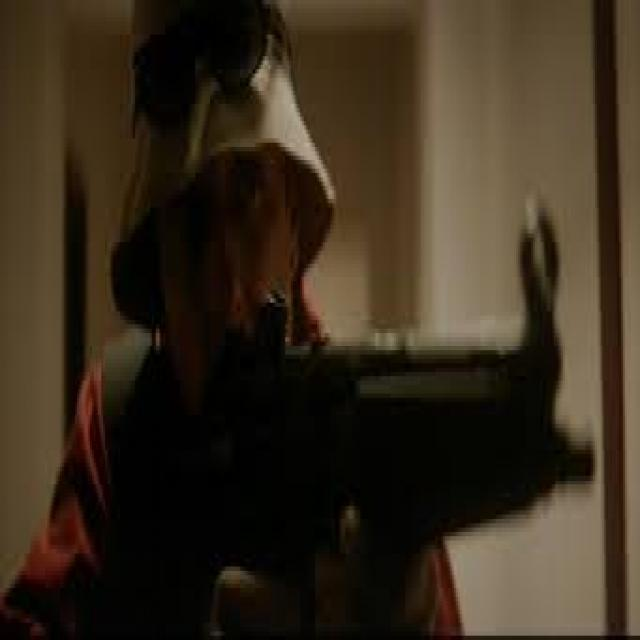weapon: (157, 200, 598, 639)
